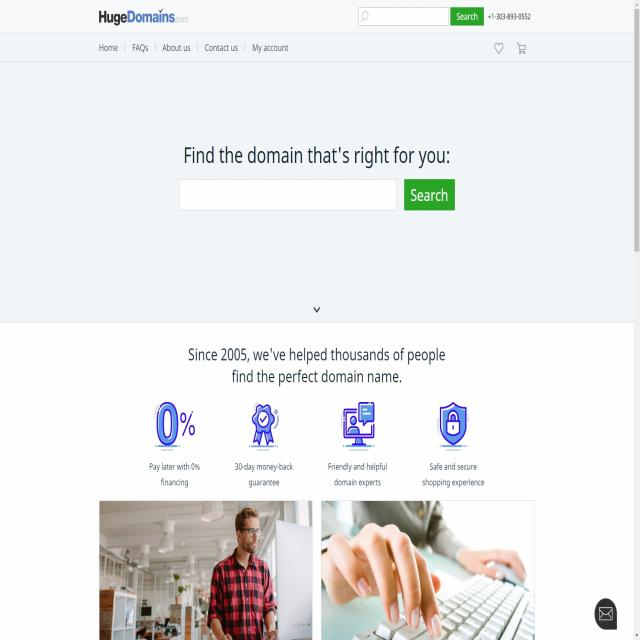menu-bar: (94, 30, 298, 62)
search: (177, 175, 456, 212), (354, 1, 486, 28)
